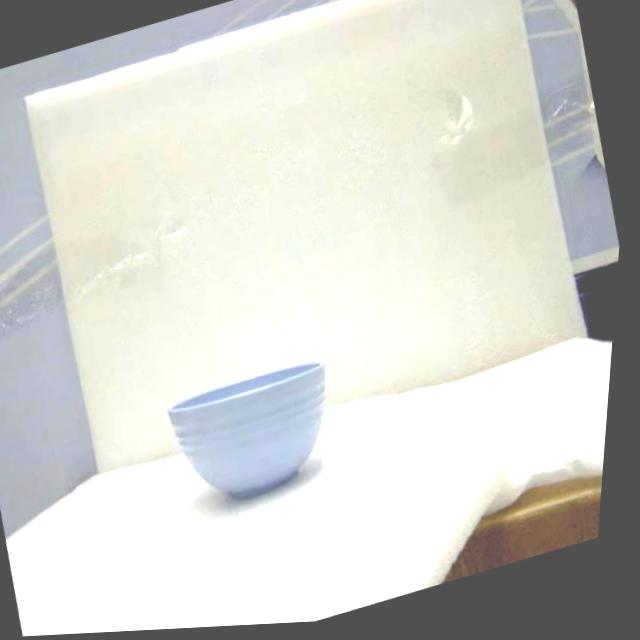Bowl: (170, 363, 326, 497)
